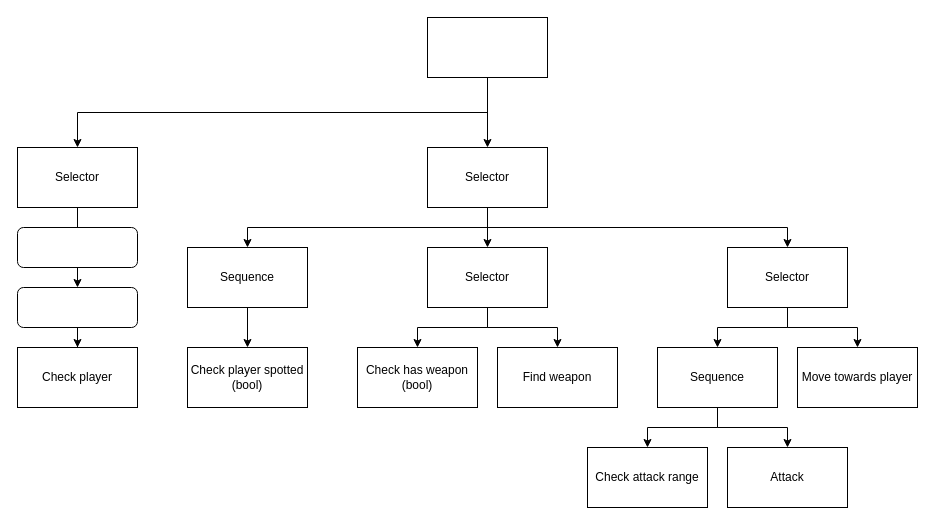
Image size: 935x525. Some labels were removed from this diagram. The box of each missing label's shape, as (x1, y1, x2, y2) in pixels:
inverter: (16, 226, 138, 268)
Reactive sequence: (426, 16, 548, 78)
succeeder: (16, 286, 138, 328)
